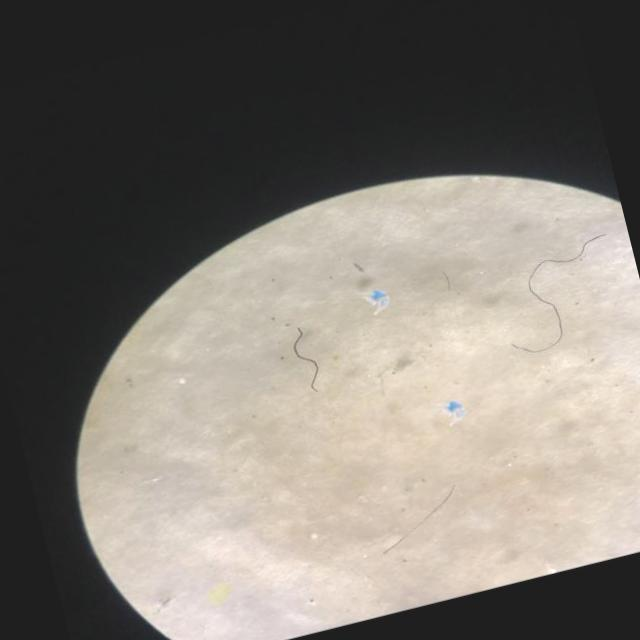fiber: (513, 234, 606, 351), (381, 485, 454, 554), (293, 327, 317, 391)
film: (361, 288, 388, 313), (440, 399, 459, 426)
fragment: (208, 584, 228, 602)
pellet: (177, 376, 185, 384), (310, 532, 317, 539)
